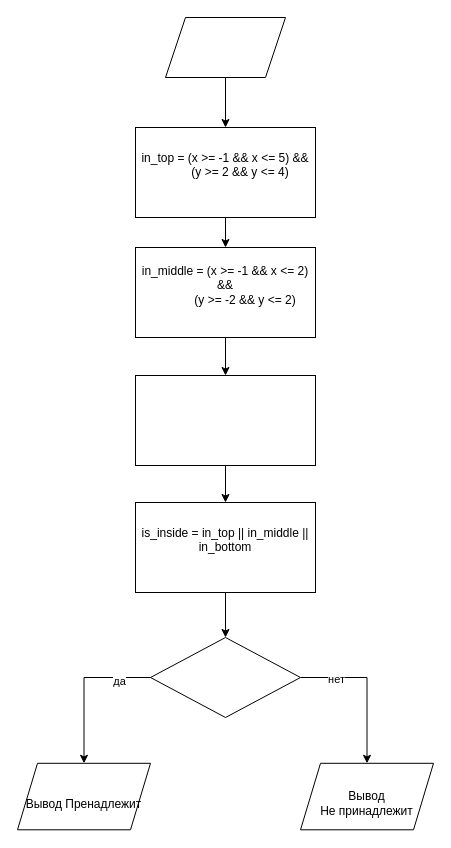
Some shapes in this 451 by 848 pixel diagram are drawn without their labels. Here are the shapes that lost their labels. From the top down, the centre of each, then its label:
(225,47): Ввод x,y
(225,420): in_bottom = (x >= -4 && x <= 2) && (y >= -4 && y <= -2)
(225,677): is_inside
